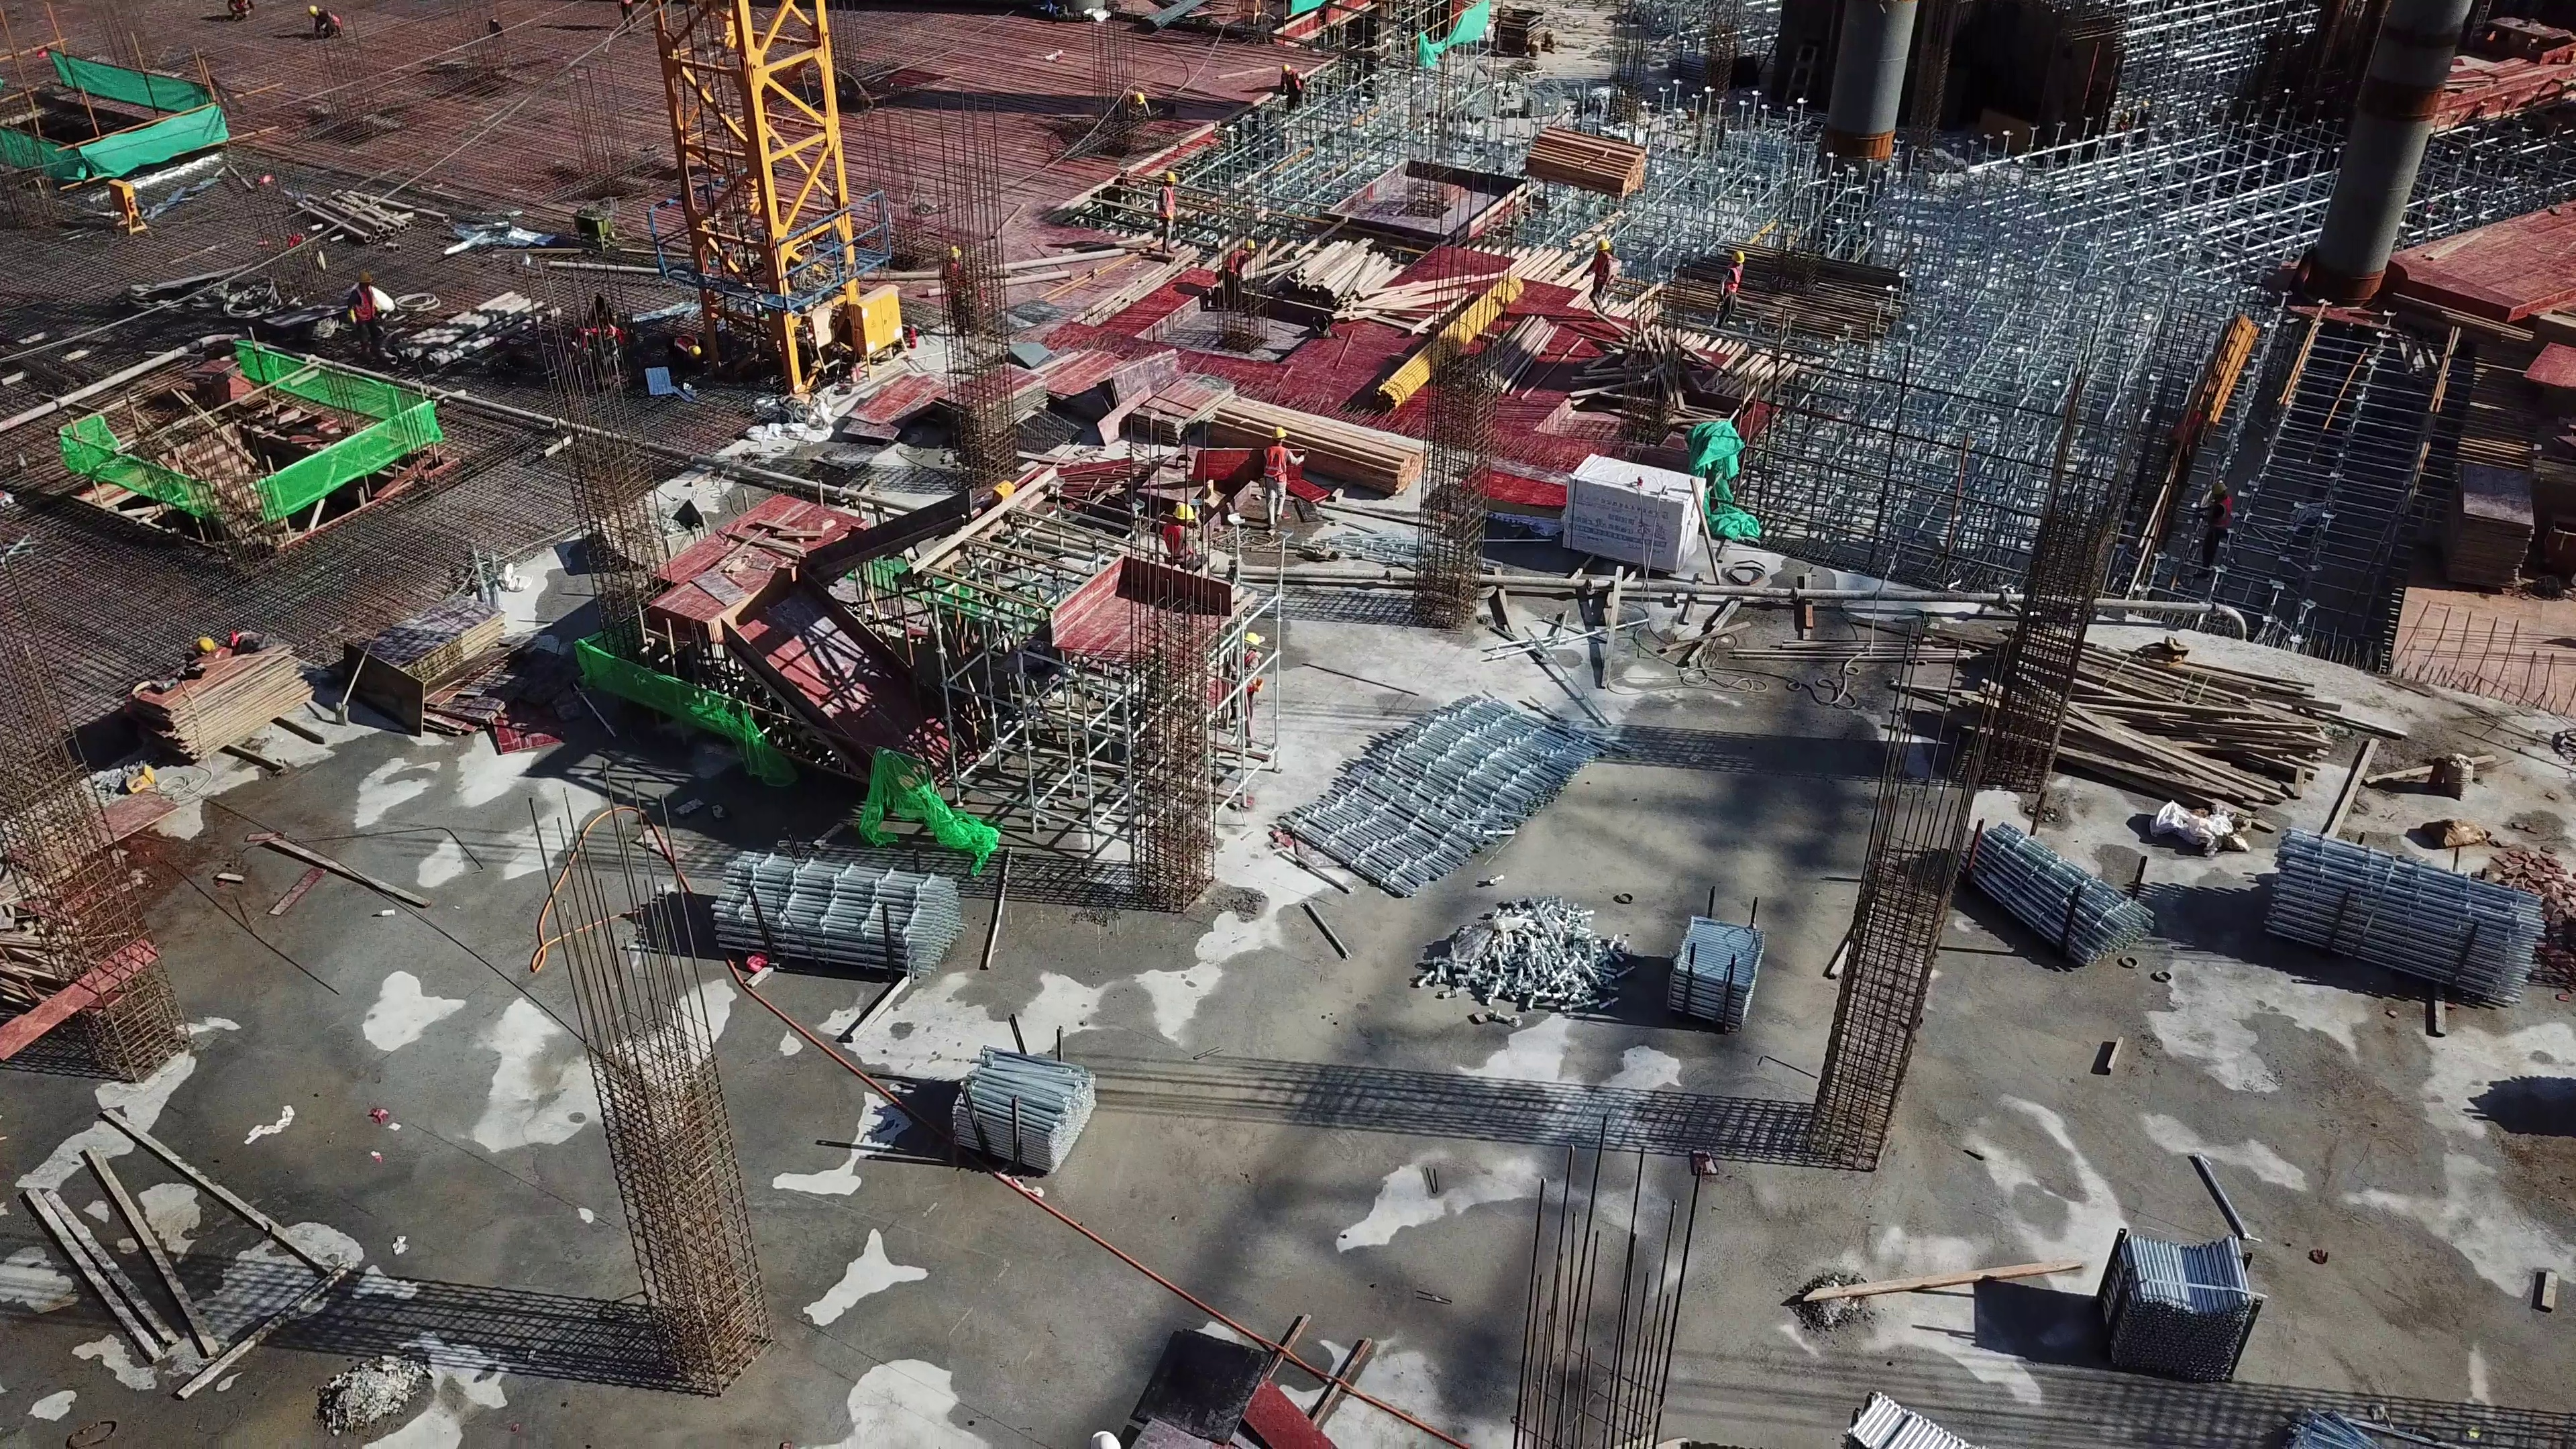board: (338, 587, 516, 733), (131, 628, 309, 771), (2447, 441, 2537, 596)
person: (1257, 415, 1303, 532), (942, 240, 980, 342), (1718, 234, 1750, 342), (344, 275, 388, 354), (1161, 506, 1204, 573), (1587, 234, 1621, 322), (1152, 170, 1181, 252)
scaffold: (1292, 686, 1610, 896), (1397, 881, 1790, 1042), (2257, 826, 2540, 1016), (691, 835, 974, 975), (1951, 814, 2138, 969), (948, 1054, 1082, 1182)
wood: (1896, 613, 2357, 812), (1228, 229, 1458, 339), (1199, 394, 1423, 502)
